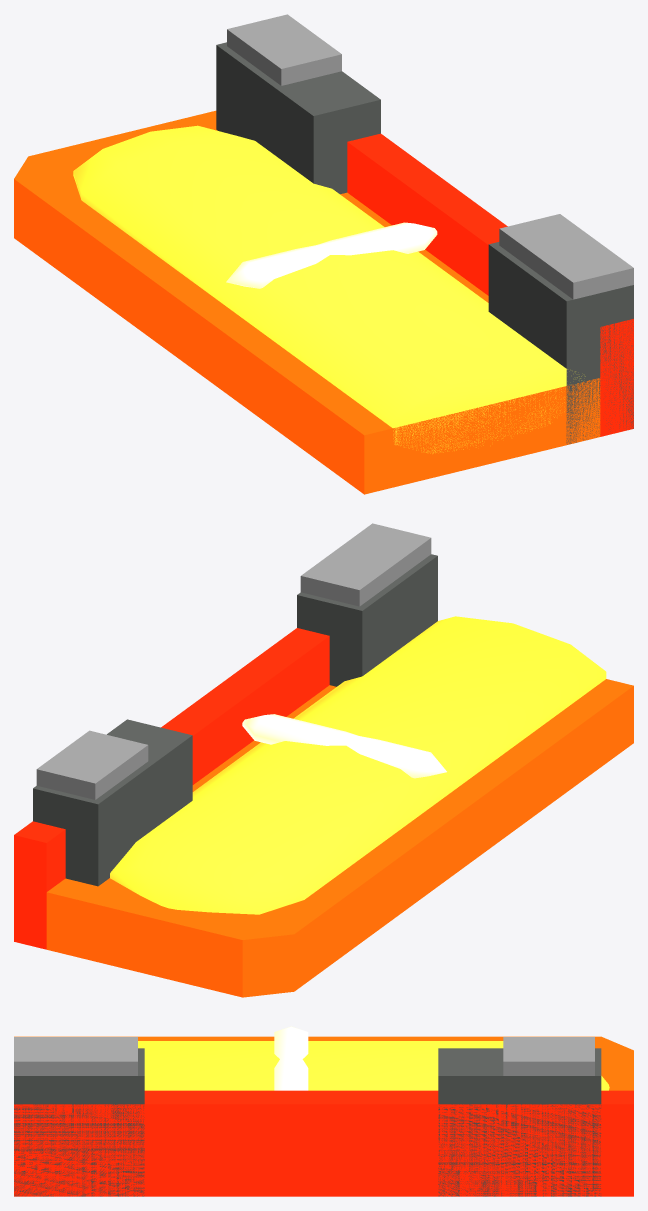
The model's file is newsha-1-f2.glb.
3 renders of one model, top to bottom at view 1: azimuth 30°, elevation 25°; view 2: azimuth 150°, elevation 25°; view 3: azimuth 270°, elevation 25°, orthographic. The views are drawn at different scales.
Visible parts, largest first — view 1: newsha-1-f2; view 2: newsha-1-f2; view 3: newsha-1-f2.
Boxes of the visible parts, x1,y1,x2,y2 form: newsha-1-f2: [14, 14, 633, 494]; newsha-1-f2: [14, 523, 633, 997]; newsha-1-f2: [14, 1026, 633, 1196].
Size of the model in its own units: 0.6667 by 0.38 by 1.58.
